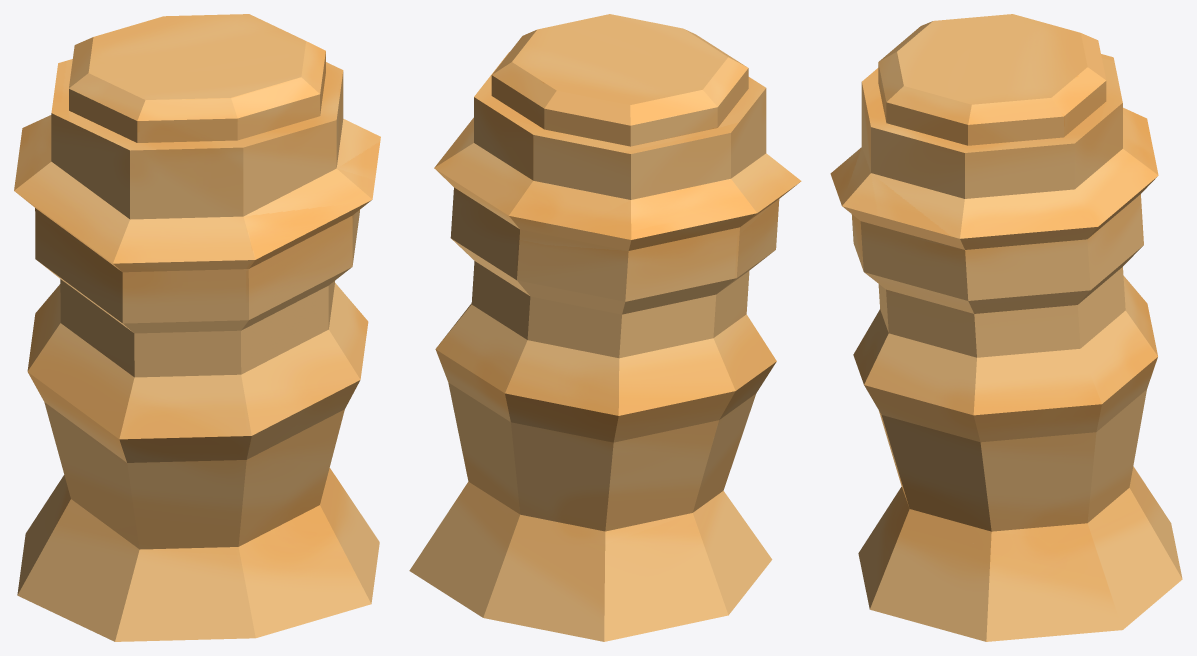
The model's file is rock.fbx.
3 renders of one model, left to right at view 1: azimuth 30°, elevation 25°; view 2: azimuth 150°, elevation 25°; view 3: azimuth 270°, elevation 25°, orthographic. The views are drawn at different scales.
Parts seen in each view (by area): view 1: rock; view 2: rock; view 3: rock.
Boxes of the visible parts, <box> form: rock: <box>14,14,380,641</box>; rock: <box>409,14,801,641</box>; rock: <box>830,14,1182,641</box>.
Size of the model in its own units: 79.01 by 116 by 73.98.
Materials: 1 (1 with a texture image).
